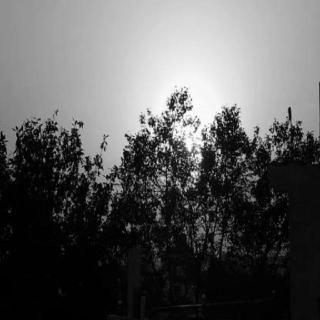other: (149, 52, 235, 190)
